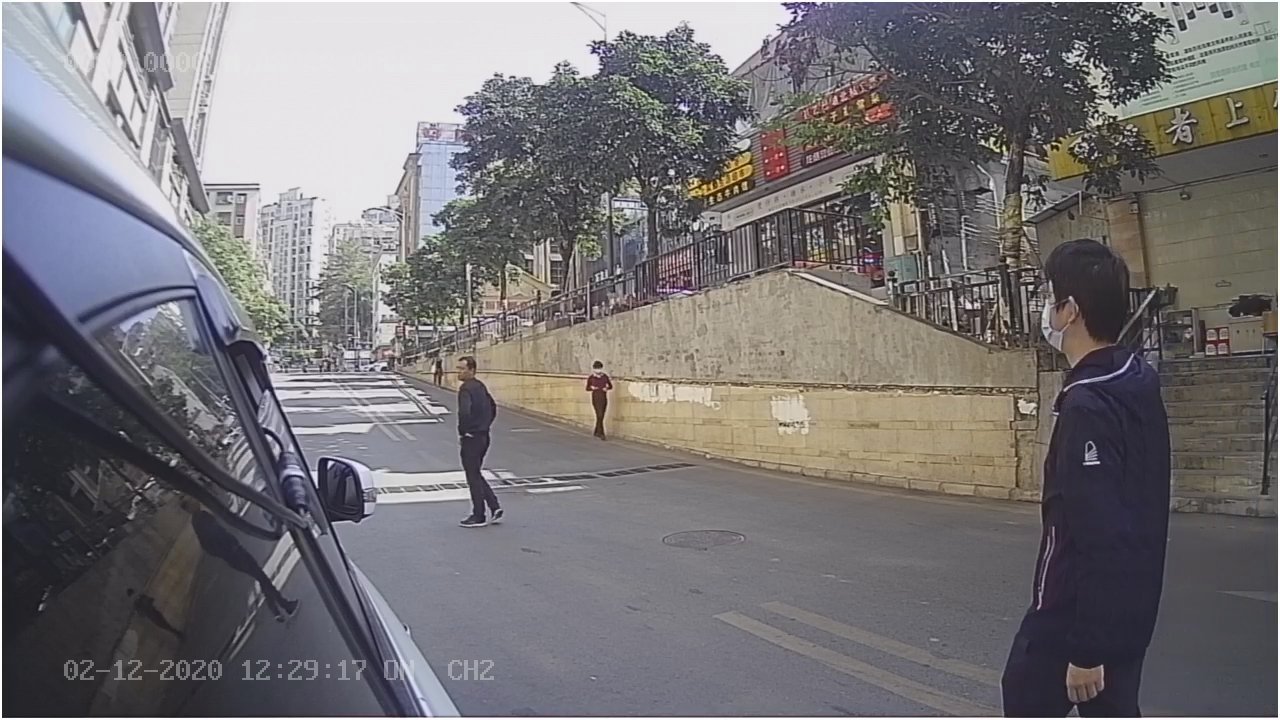person: (1000, 237, 1181, 704), (435, 350, 527, 542)
